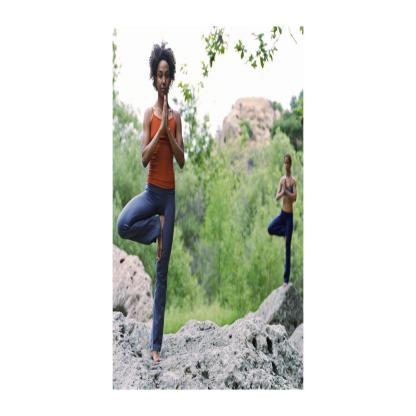tree: (115, 34, 190, 368), (265, 148, 300, 292)
